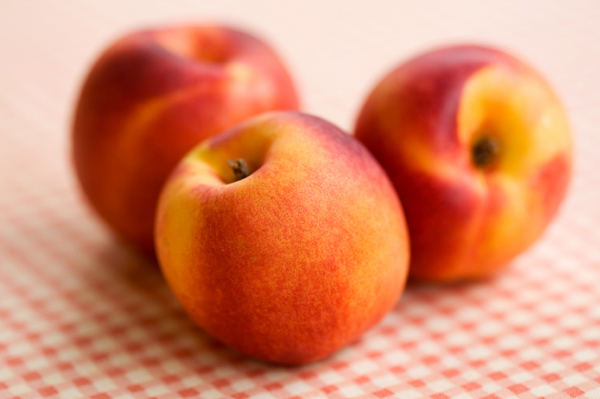peach: (170, 121, 401, 361), (378, 50, 578, 294), (70, 24, 207, 232)
